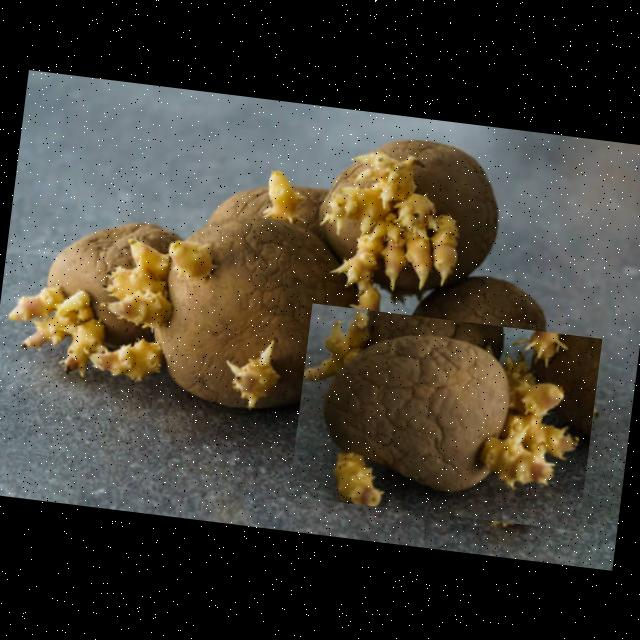Sprouted potato: (288, 303, 602, 531), (141, 150, 403, 422), (303, 123, 513, 350), (392, 262, 626, 428), (2, 208, 202, 398)
